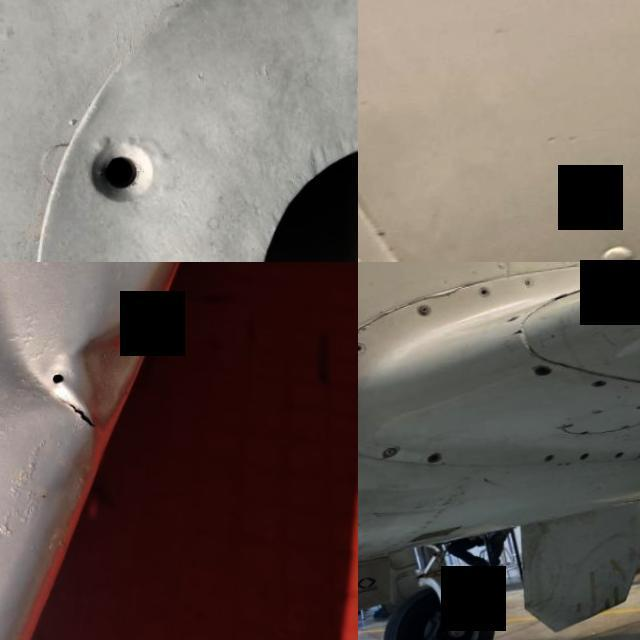Crack: (32, 387, 110, 450), (402, 284, 464, 304), (358, 312, 385, 337), (496, 324, 527, 342), (540, 293, 574, 305)
Dent: (0, 262, 207, 448)
Missing_Fastener: (60, 113, 178, 238), (421, 452, 441, 466), (527, 367, 550, 379), (472, 288, 489, 302), (571, 453, 586, 467), (585, 382, 604, 392), (606, 454, 622, 464), (586, 270, 600, 280), (358, 342, 366, 356), (629, 269, 640, 274)
